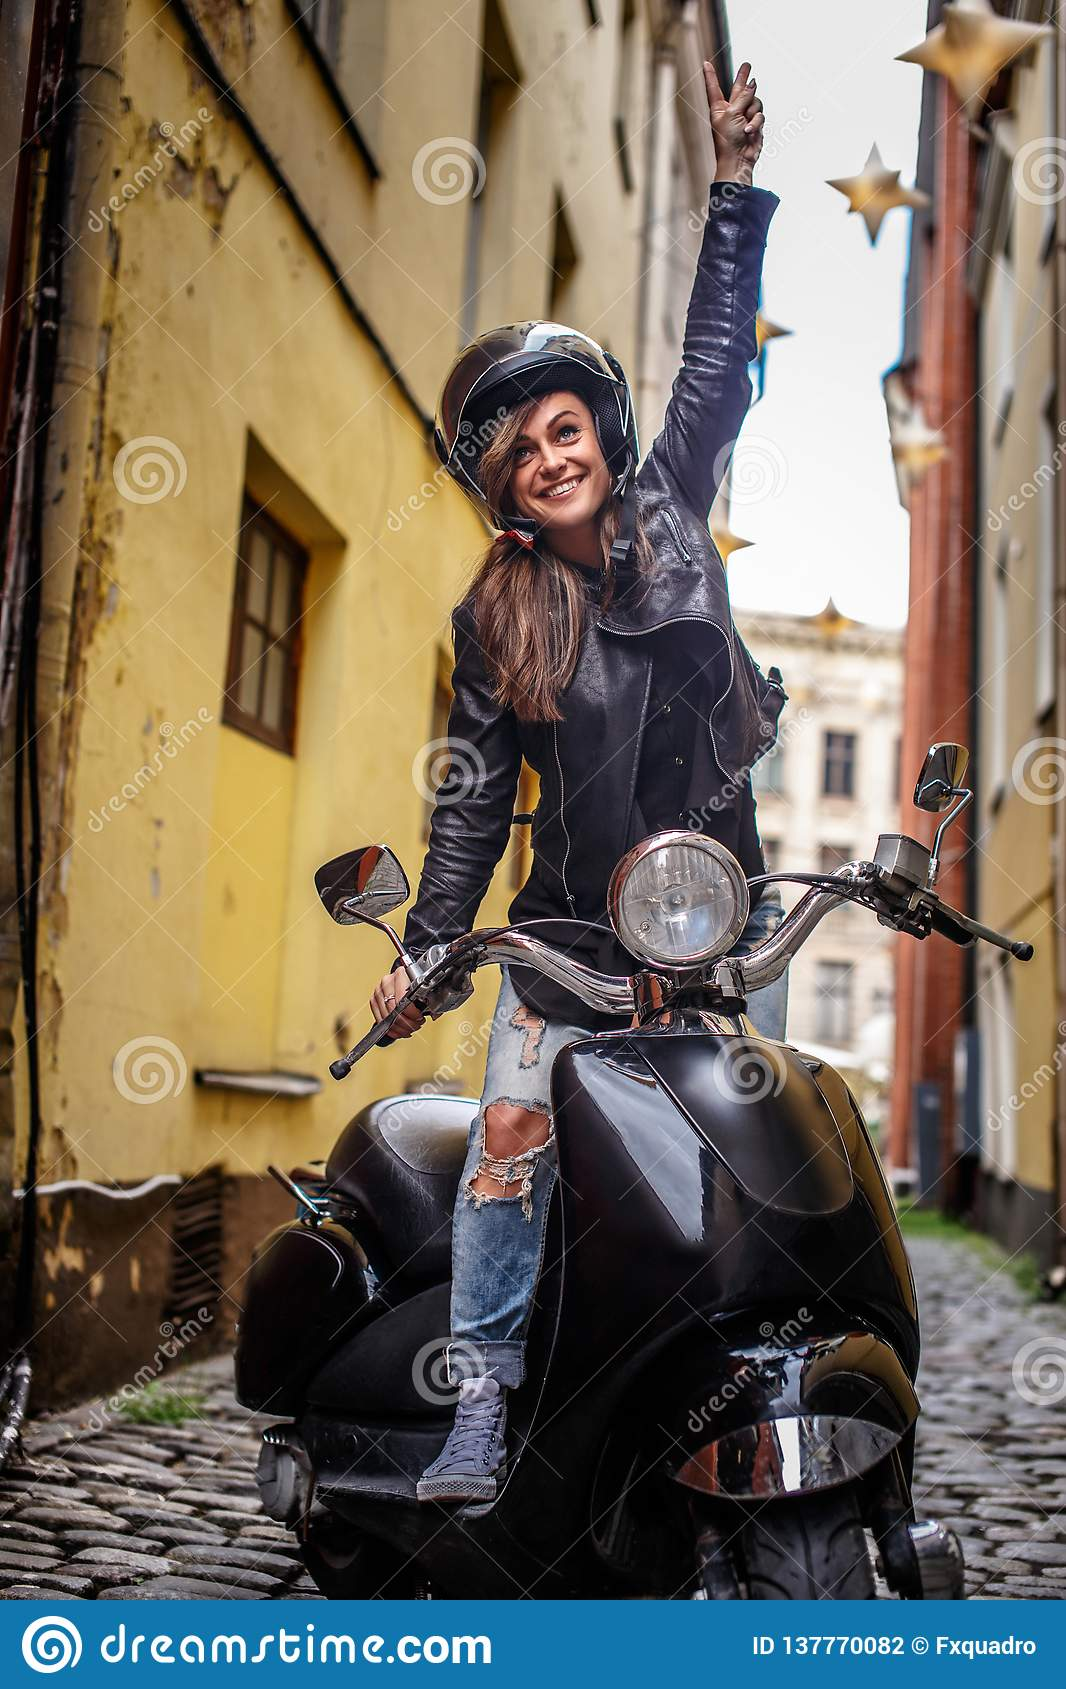helmet: (430, 341, 644, 469)
